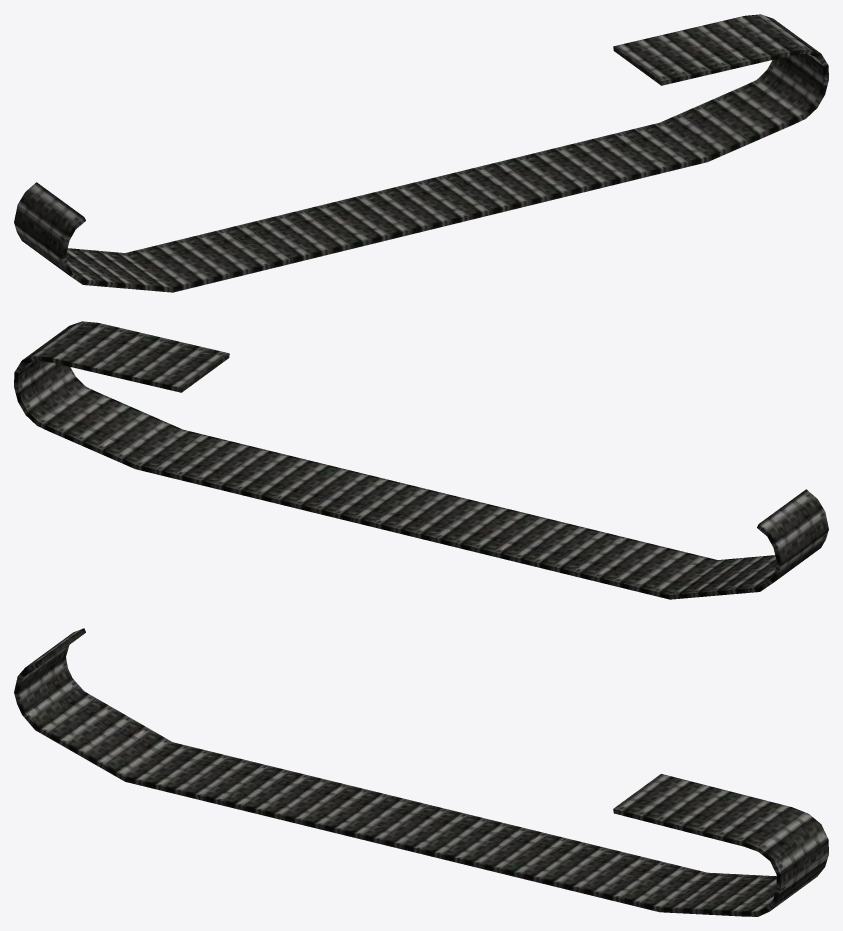
Rendered from maus_track.obj.
3 views of the same model, one above another, from view 1: azimuth 30°, elevation 25°; view 2: azimuth 150°, elevation 25°; view 3: azimuth 330°, elevation 25° (orthographic).
Visible parts, largest first — view 1: track_Cube.000; view 2: track_Cube.000; view 3: track_Cube.000.
Part boxes in pixels (left/top/right/bottom): track_Cube.000: left=14, top=14, right=828, bottom=292; track_Cube.000: left=14, top=321, right=828, bottom=599; track_Cube.000: left=14, top=628, right=828, bottom=916.
Bounding box in the file's own units: 18.53 × 2.24 × 2.
1 material, 1 textured.
